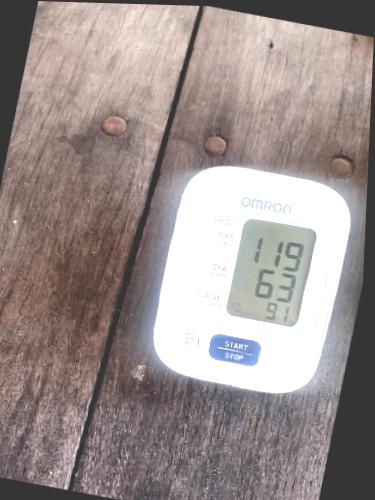bpm: (222, 214, 317, 331)
